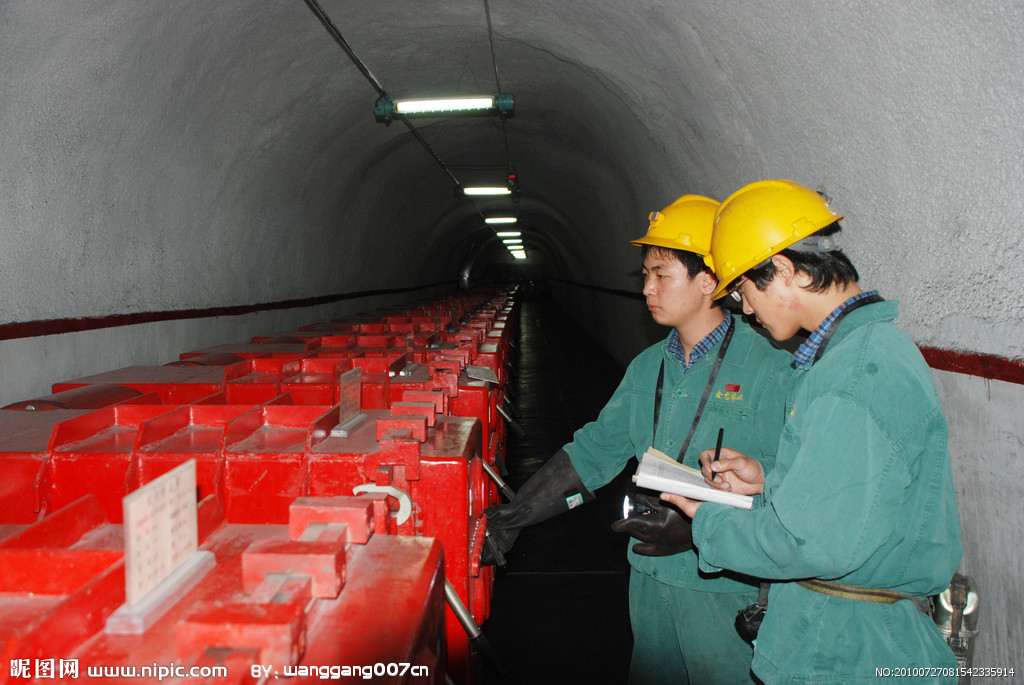helmet: (708, 196, 910, 364), (634, 180, 722, 354)
